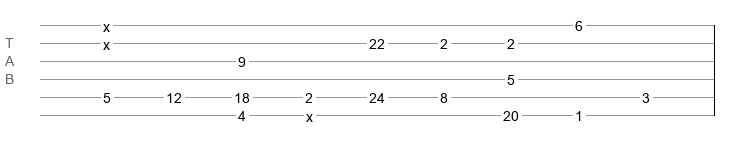1: (575, 108, 583, 118)
12: (166, 90, 182, 100)
18: (234, 90, 250, 100)
2: (305, 90, 313, 100), (440, 36, 448, 46), (507, 36, 515, 46)
20: (503, 108, 519, 118)
22: (369, 36, 385, 46)
24: (369, 90, 385, 100)
3: (642, 90, 650, 100)
4: (238, 108, 246, 118)
5: (103, 90, 111, 100), (507, 72, 515, 82)
6: (575, 18, 583, 28)
8: (440, 90, 448, 100)
9: (238, 54, 246, 64)
x: (103, 19, 110, 27), (103, 37, 110, 45), (306, 109, 313, 117)
